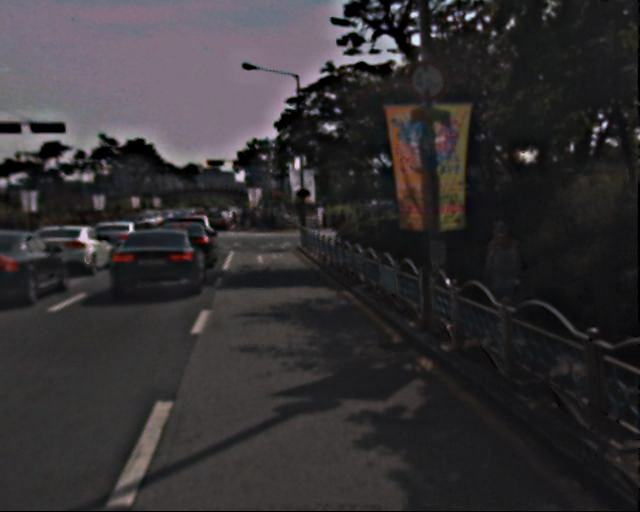person: (476, 218, 526, 341)
